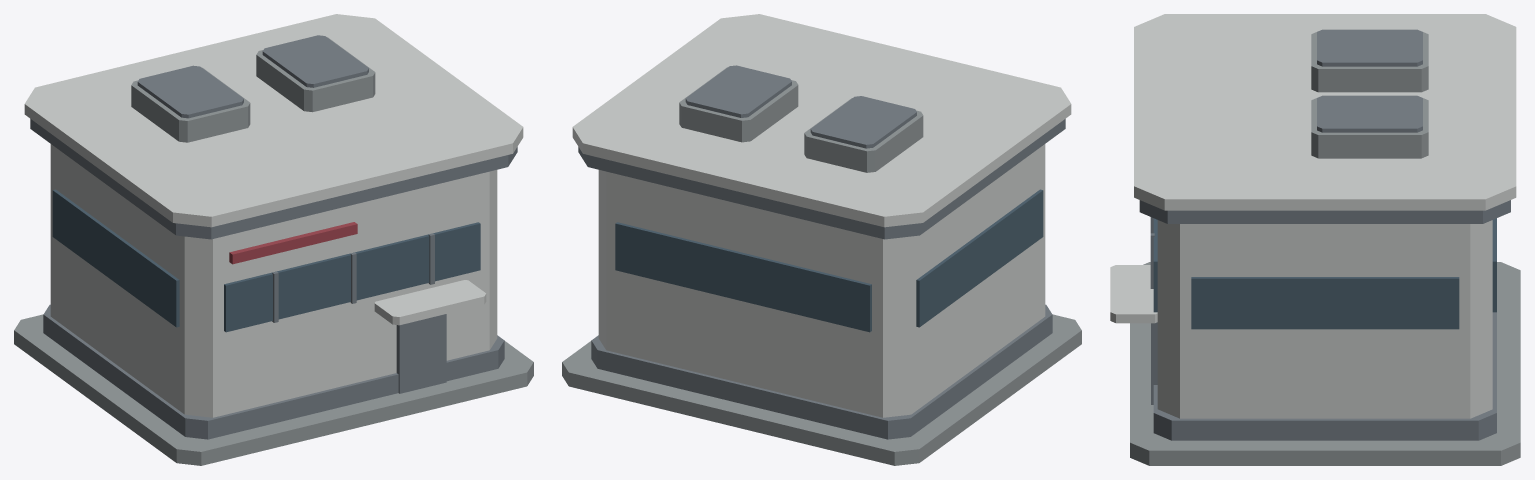
File: AviationBuildingSupport.gltf
3 renders of one model, left to right at view 1: azimuth 30°, elevation 25°; view 2: azimuth 150°, elevation 25°; view 3: azimuth 270°, elevation 25°, orthographic. The views are drawn at different scales.
Parts seen in each view (by area): view 1: AviationBuildingSupport; view 2: AviationBuildingSupport; view 3: AviationBuildingSupport.
Boxes of the visible parts, box(x1,y1,x2,y2) form: AviationBuildingSupport: box(14, 14, 533, 465); AviationBuildingSupport: box(562, 14, 1081, 465); AviationBuildingSupport: box(1110, 14, 1520, 465).
Bounding box in the file's own units: 16 × 11.56 × 14.7.
